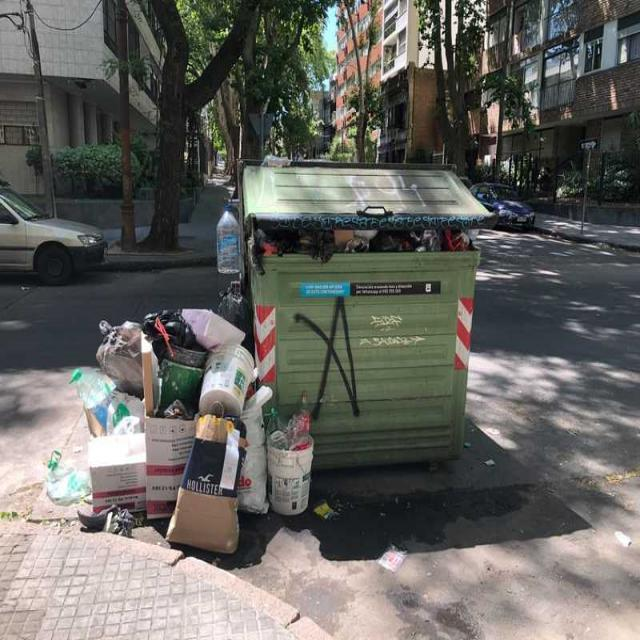high trash: (46, 310, 312, 563)
less trash: (376, 546, 406, 572), (312, 500, 339, 520)
